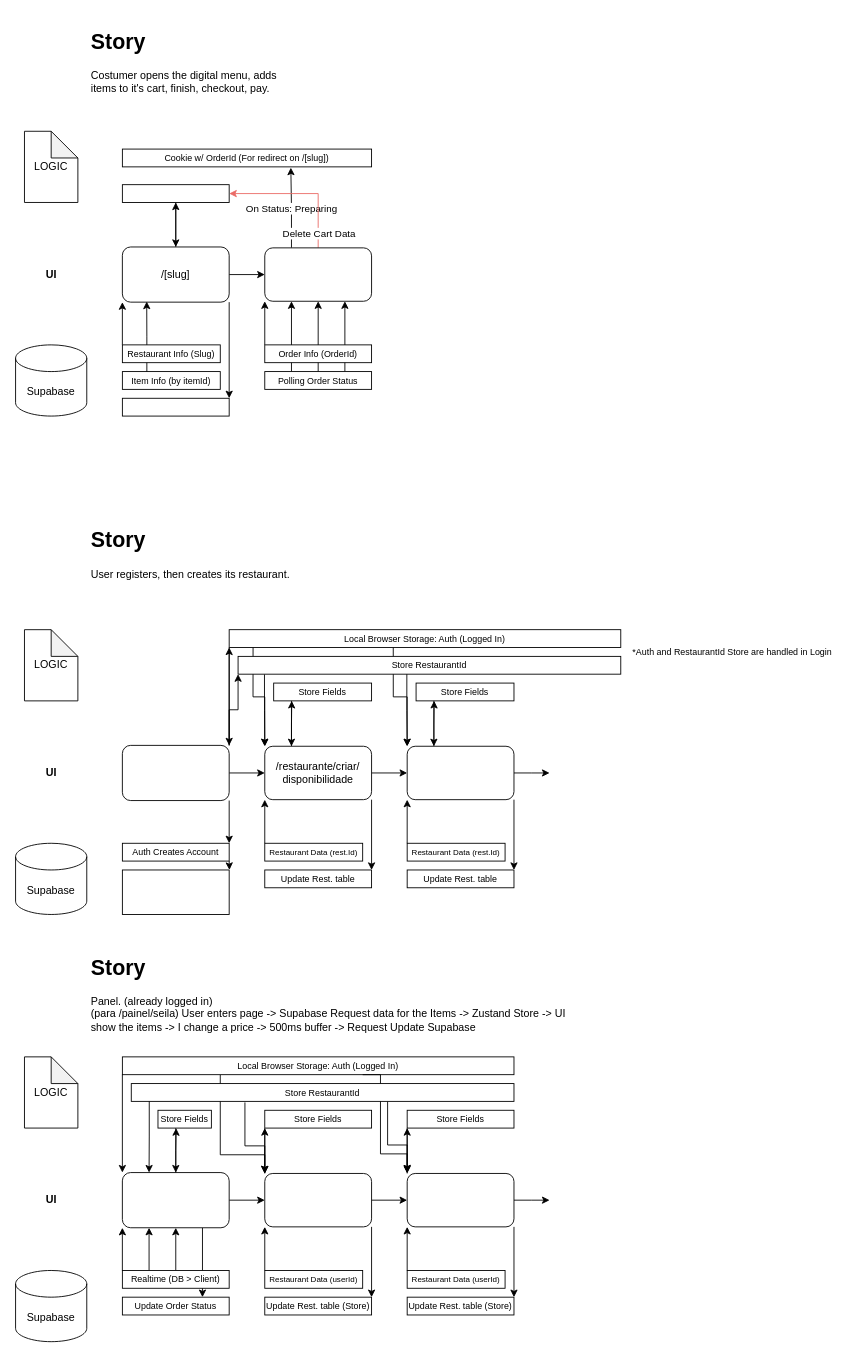
The diagram is 859 pixels wide and 1364 high, and some of its shapes have lost their labels. The centre of each missing label's shape, as x and y in pixels:
"/[slug]/[id]" goes at (318,274).
"/painel" goes at (175,1200).
"/restaurante/criar/ whatever..." goes at (460,772).
"/restaurante/registrar" goes at (175,772).
"Create Order (Cart Info)" goes at (175,406).
"Create Tables: Restaurant and Menu. Fill both tables with default data." goes at (175,891).
"painel/disponibilidade" goes at (318,1200).
"painel/whatever..." goes at (460,1200).
"Store Cart and Checkout" goes at (175,193).
